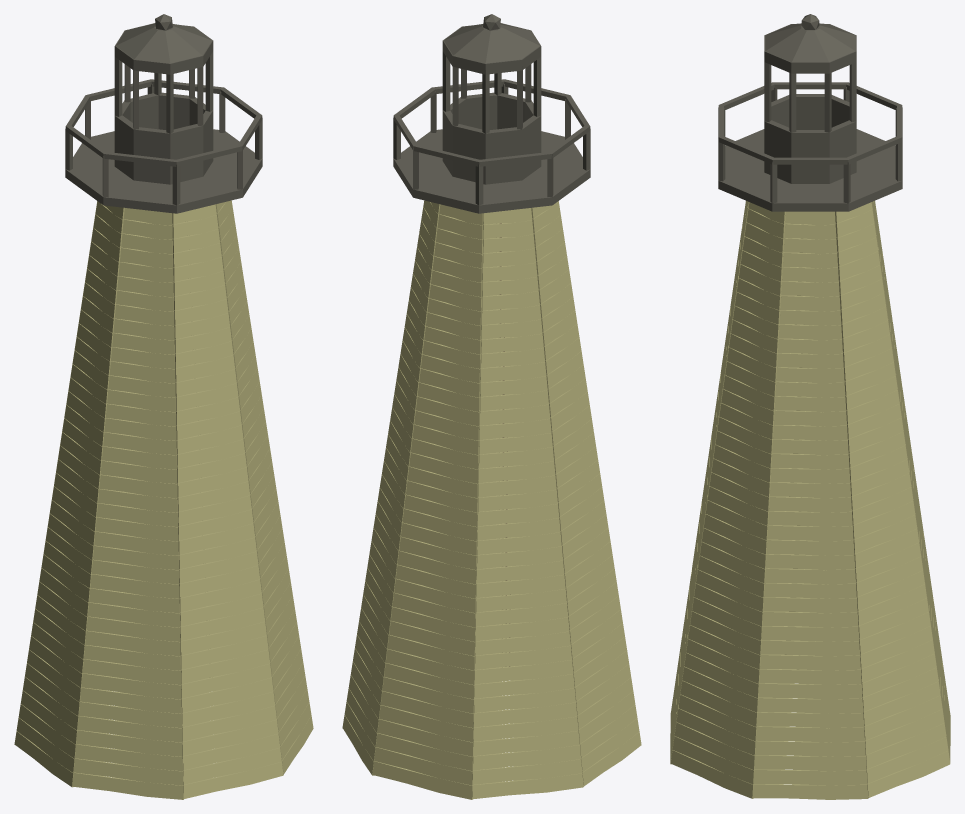
Rendered from Lighthouse Base.fbx.
3 renders of one model, left to right at view 1: azimuth 30°, elevation 25°; view 2: azimuth 150°, elevation 25°; view 3: azimuth 270°, elevation 25°, orthographic.
Parts seen in each view (by area): view 1: LighthouseWall_4, LighthouseWall_3, LighthouseWall_5, Cube.069, LighthouseWall_2; view 2: LighthouseWall_6, LighthouseWall_7, LighthouseWall_5, Cube.069, LighthouseWall_8; view 3: LighthouseWall_1, LighthouseWall_8, LighthouseWall_2, Cube.069, LighthouseWall_7, LighthouseWall_3.
Boxes of the visible parts, x1,y1,x2,y2 form: LighthouseWall_4: (72, 208, 183, 799); LighthouseWall_3: (172, 204, 283, 798); LighthouseWall_5: (14, 201, 124, 787); Cube.069: (65, 14, 262, 213); LighthouseWall_2: (215, 200, 313, 774); LighthouseWall_6: (472, 208, 583, 799); LighthouseWall_7: (372, 204, 483, 799); LighthouseWall_5: (531, 201, 641, 786); Cube.069: (393, 14, 590, 213); LighthouseWall_8: (342, 200, 440, 775); LighthouseWall_1: (752, 211, 868, 799); LighthouseWall_8: (835, 202, 950, 797); LighthouseWall_2: (670, 202, 785, 798); Cube.069: (718, 14, 902, 211); LighthouseWall_7: (871, 201, 950, 762); LighthouseWall_3: (670, 201, 749, 764).
Size of the model in its own units: 7.9 by 22.59 by 7.9.
